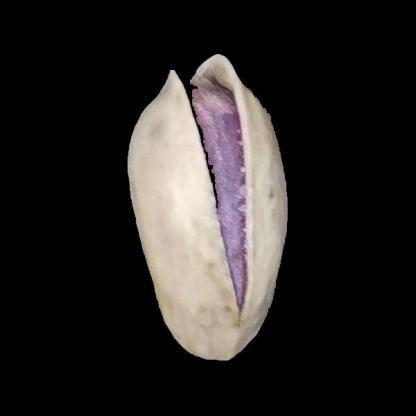pistachio: (122, 44, 297, 369)
